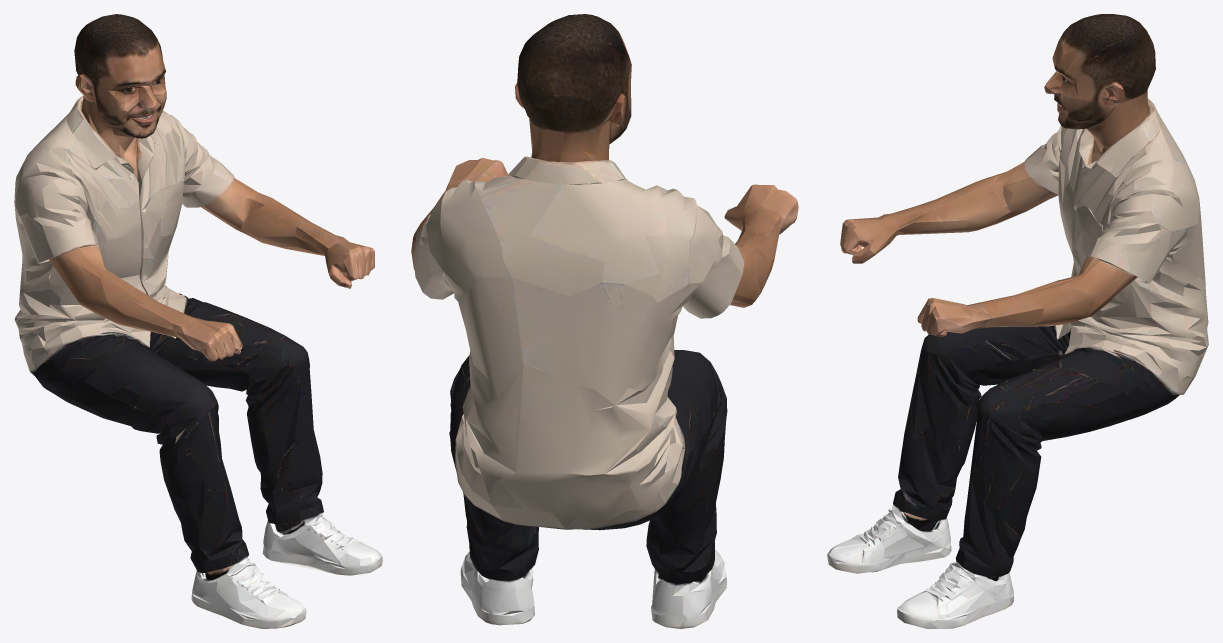
File: d_polite.glb
The picture shows the model from 3 angles, left to right: view 1: azimuth 30°, elevation 25°; view 2: azimuth 150°, elevation 25°; view 3: azimuth 270°, elevation 25°; orthographic projection. The views are drawn at different scales.
Parts seen in each view (by area): view 1: output_unwrapped; view 2: output_unwrapped; view 3: output_unwrapped.
Part boxes in pixels (bbox=[...]): output_unwrapped: bbox=[14, 14, 382, 628]; output_unwrapped: bbox=[411, 14, 798, 628]; output_unwrapped: bbox=[827, 14, 1208, 628].
Size of the model in its own units: 1.04 by 1.9 by 1.24.
1 material, 1 textured.
